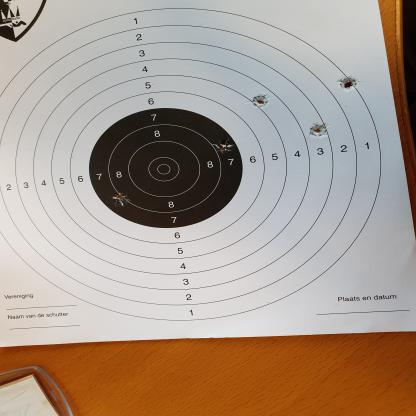3: (309, 123, 327, 138)
4: (251, 94, 268, 108)
7: (213, 140, 232, 154)
8: (111, 193, 130, 204)
bulletholes: (339, 77, 357, 90)
